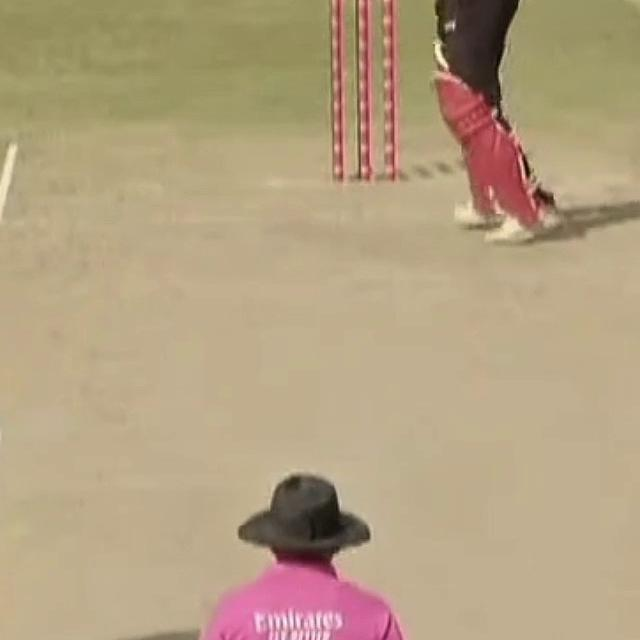umpire: (175, 470, 410, 640)
